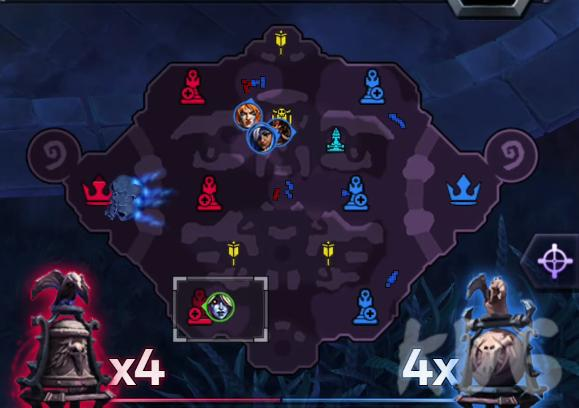blue player: (246, 122, 278, 154), (233, 98, 264, 131), (266, 117, 296, 148), (204, 292, 235, 322)
red player: (253, 126, 274, 152)
